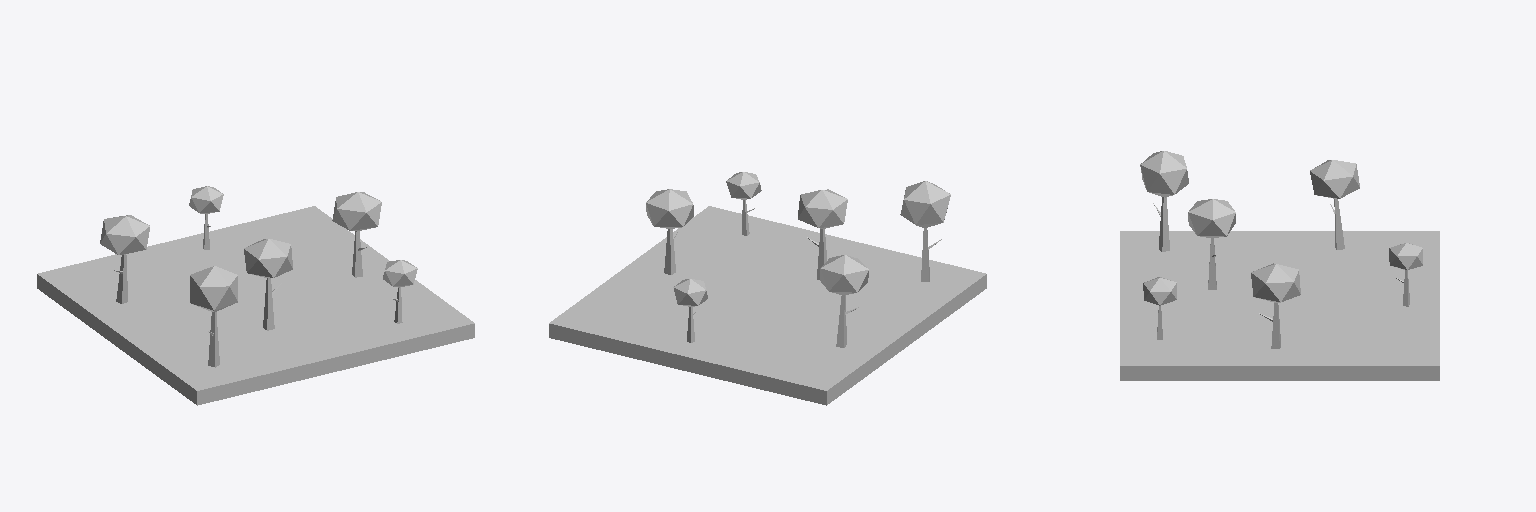
File: trees.obj
3 views of the same model, side by side, from view 1: azimuth 30°, elevation 25°; view 2: azimuth 150°, elevation 25°; view 3: azimuth 270°, elevation 25° (orthographic).
Parts seen in each view (by area): view 1: trees; view 2: trees; view 3: trees.
Part boxes in pixels (left/top/right/bottom): trees: left=37, top=186, right=474, bottom=405; trees: left=549, top=172, right=986, bottom=405; trees: left=1120, top=151, right=1439, bottom=380.
Size of the model in its own units: 40 by 15.69 by 40.